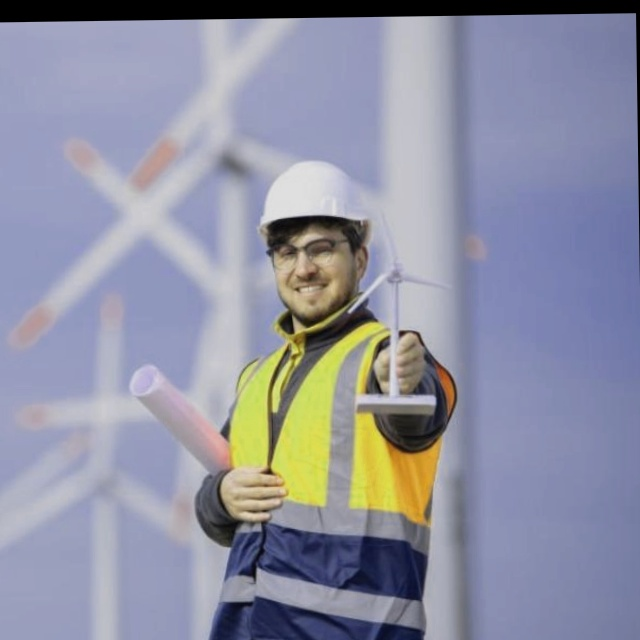Con_Casco: (257, 161, 374, 325)
Con_Chaleco: (209, 327, 446, 640)
